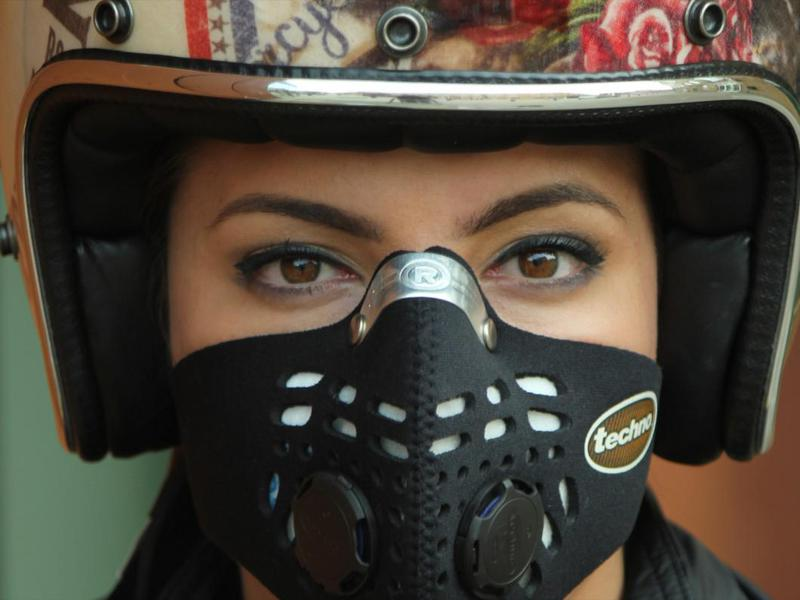with_mask: (168, 146, 661, 600)
